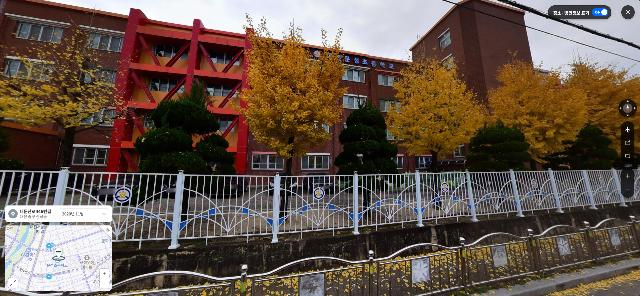ginkgo: (1, 23, 148, 199), (230, 14, 349, 218), (385, 40, 491, 168), (489, 56, 590, 165), (564, 50, 639, 163)
other: (134, 75, 236, 222), (335, 96, 399, 213), (465, 119, 533, 193), (563, 123, 620, 170)
